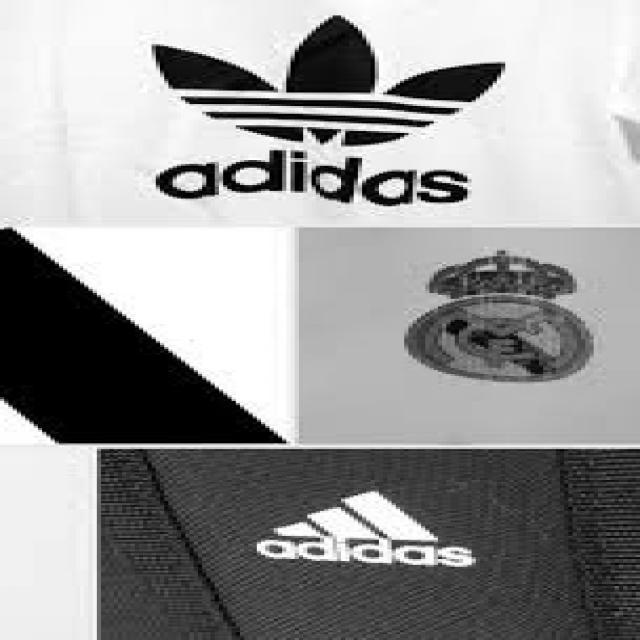Adidas: (110, 6, 522, 154)
